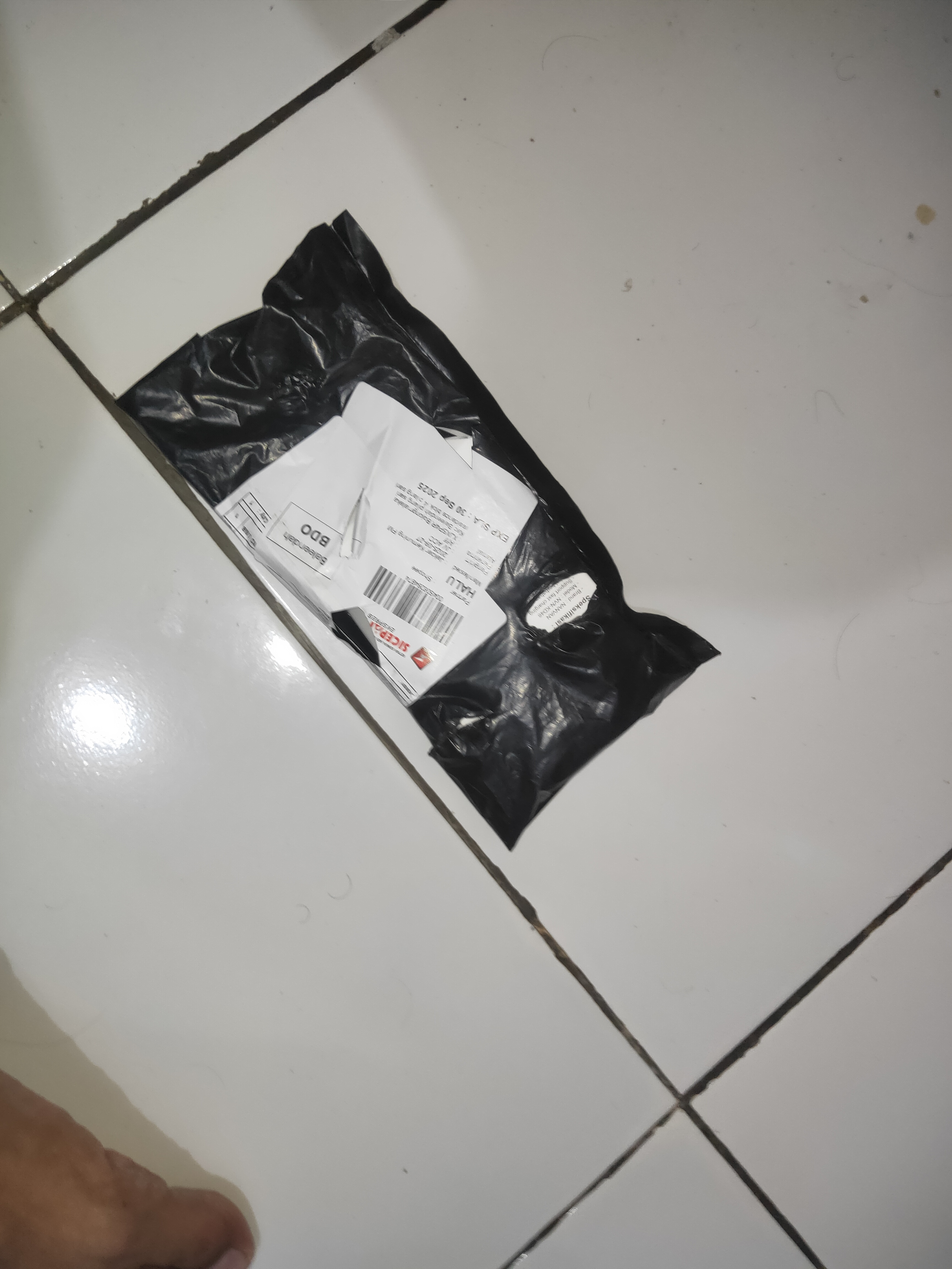damaged package: (515, 562, 605, 650), (328, 601, 386, 669), (435, 708, 506, 751), (431, 417, 478, 473), (334, 490, 364, 563), (269, 374, 317, 402)
undamaged: (108, 188, 745, 870)
